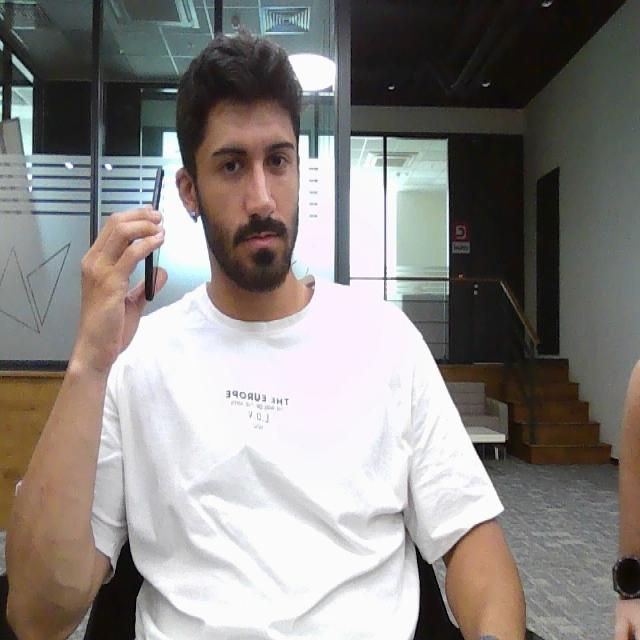phone: (143, 164, 166, 302)
